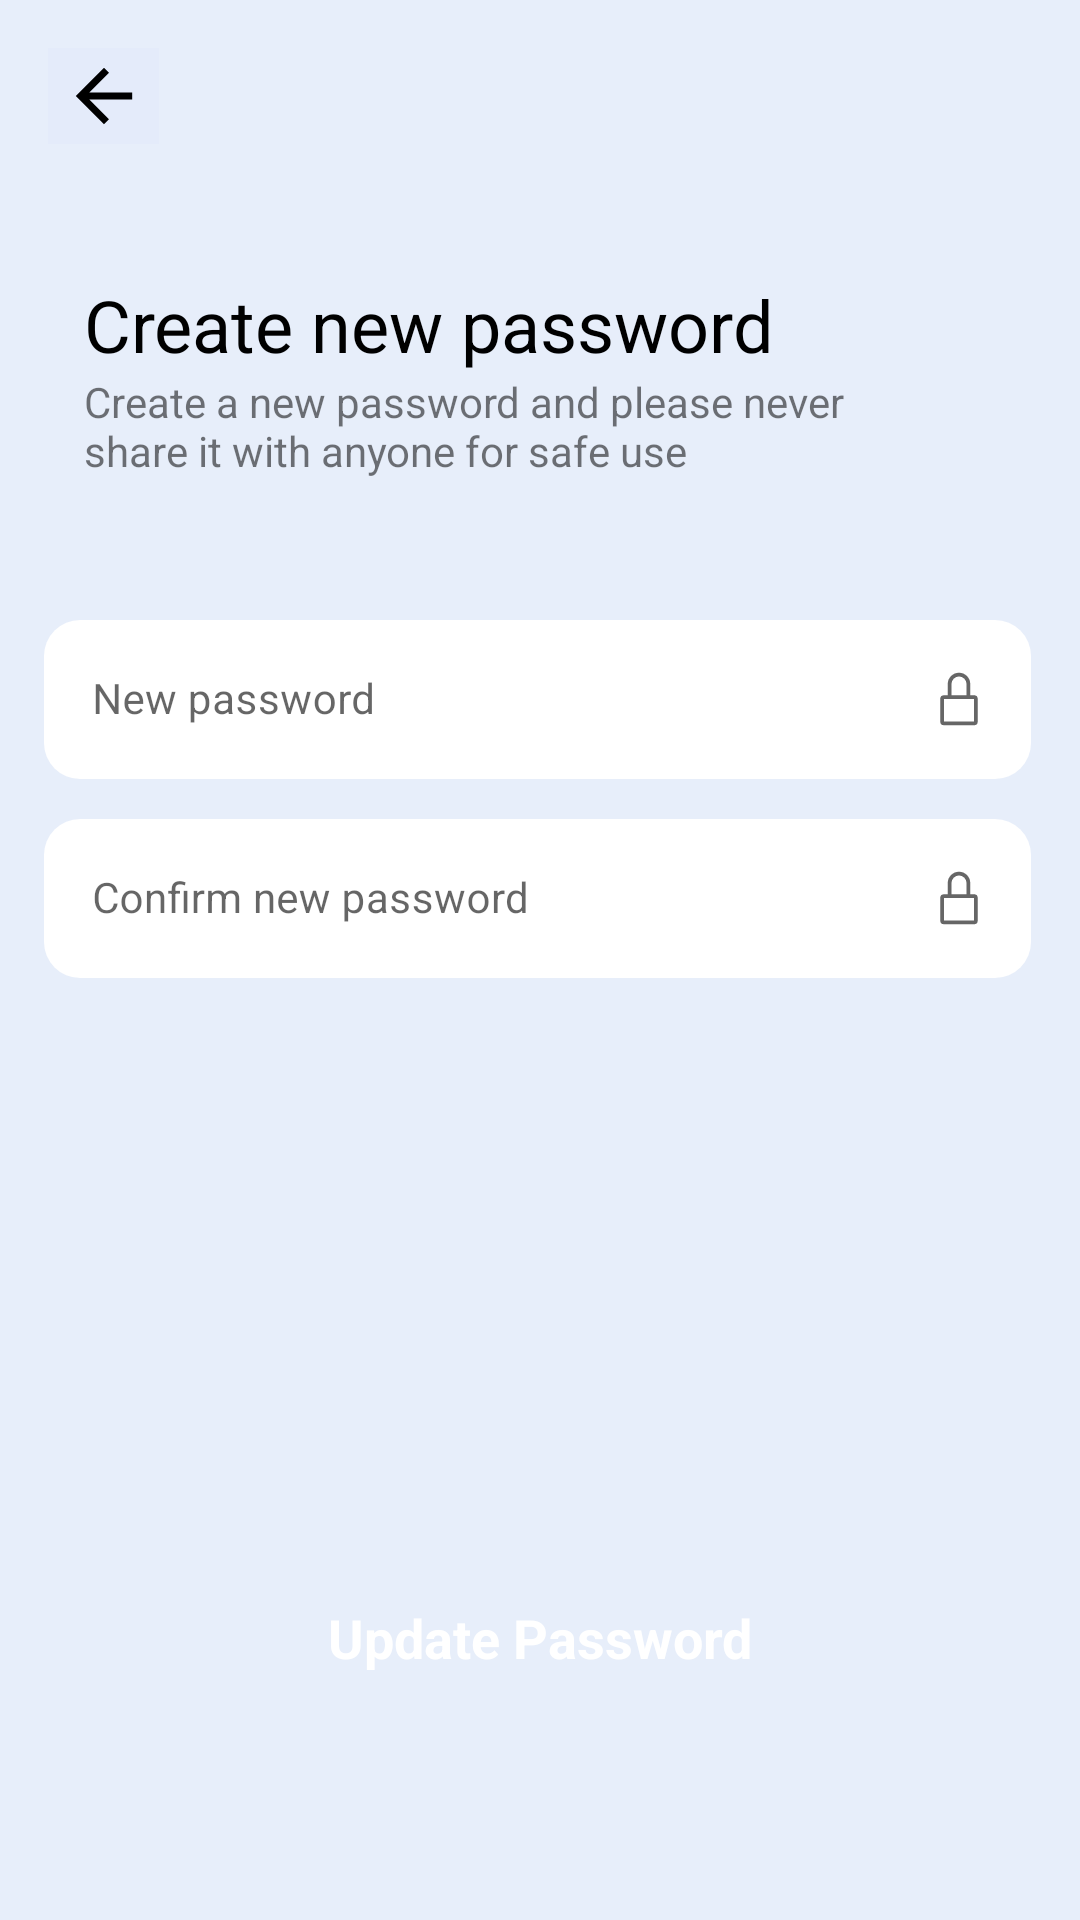

Named icons in this screenshot (1080px x 1920px) and their bounding boxes, (x1, y1, x2, y2):
back: (76, 68, 133, 124)
